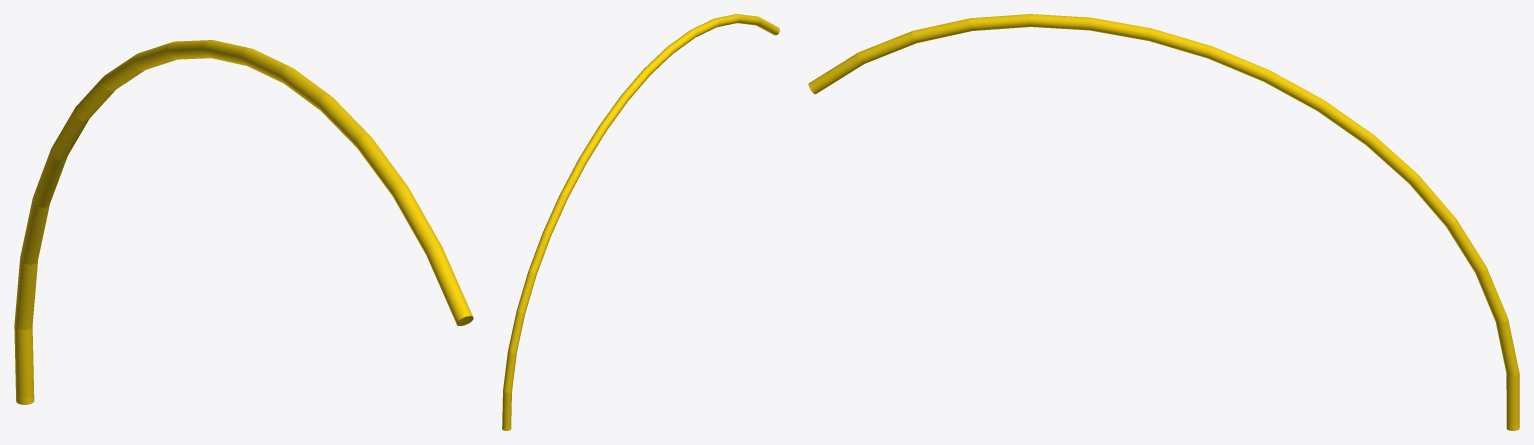
File: Event_421115418_track_201.fbx
The picture shows the model from 3 angles, left to right: view 1: azimuth 30°, elevation 25°; view 2: azimuth 150°, elevation 25°; view 3: azimuth 270°, elevation 25°; orthographic projection. The views are drawn at different scales.
Visible parts, largest first — view 1: Model; view 2: Model; view 3: Model.
Boxes of the visible parts, left/top/right/bottom form: Model: left=14, top=40, right=473, bottom=404; Model: left=502, top=14, right=779, bottom=430; Model: left=808, top=14, right=1519, bottom=430.
Bounding box in the file's own units: 0.1649 × 1.36 × 2.18.
